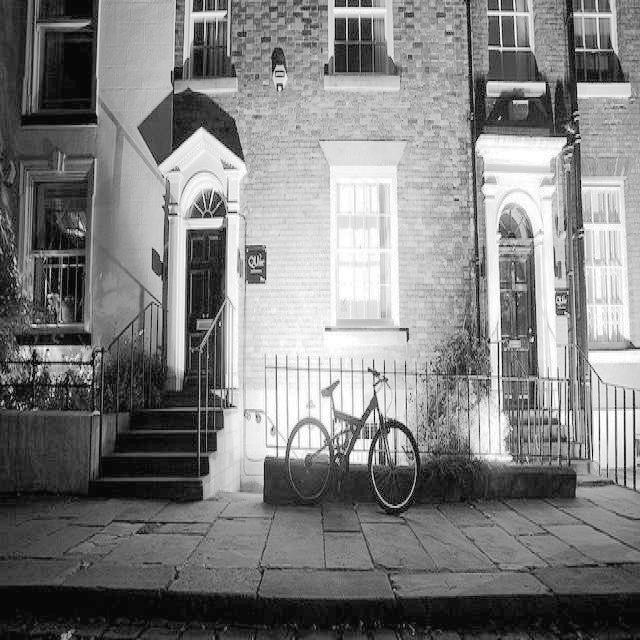Bicycle: (273, 372, 442, 527)
